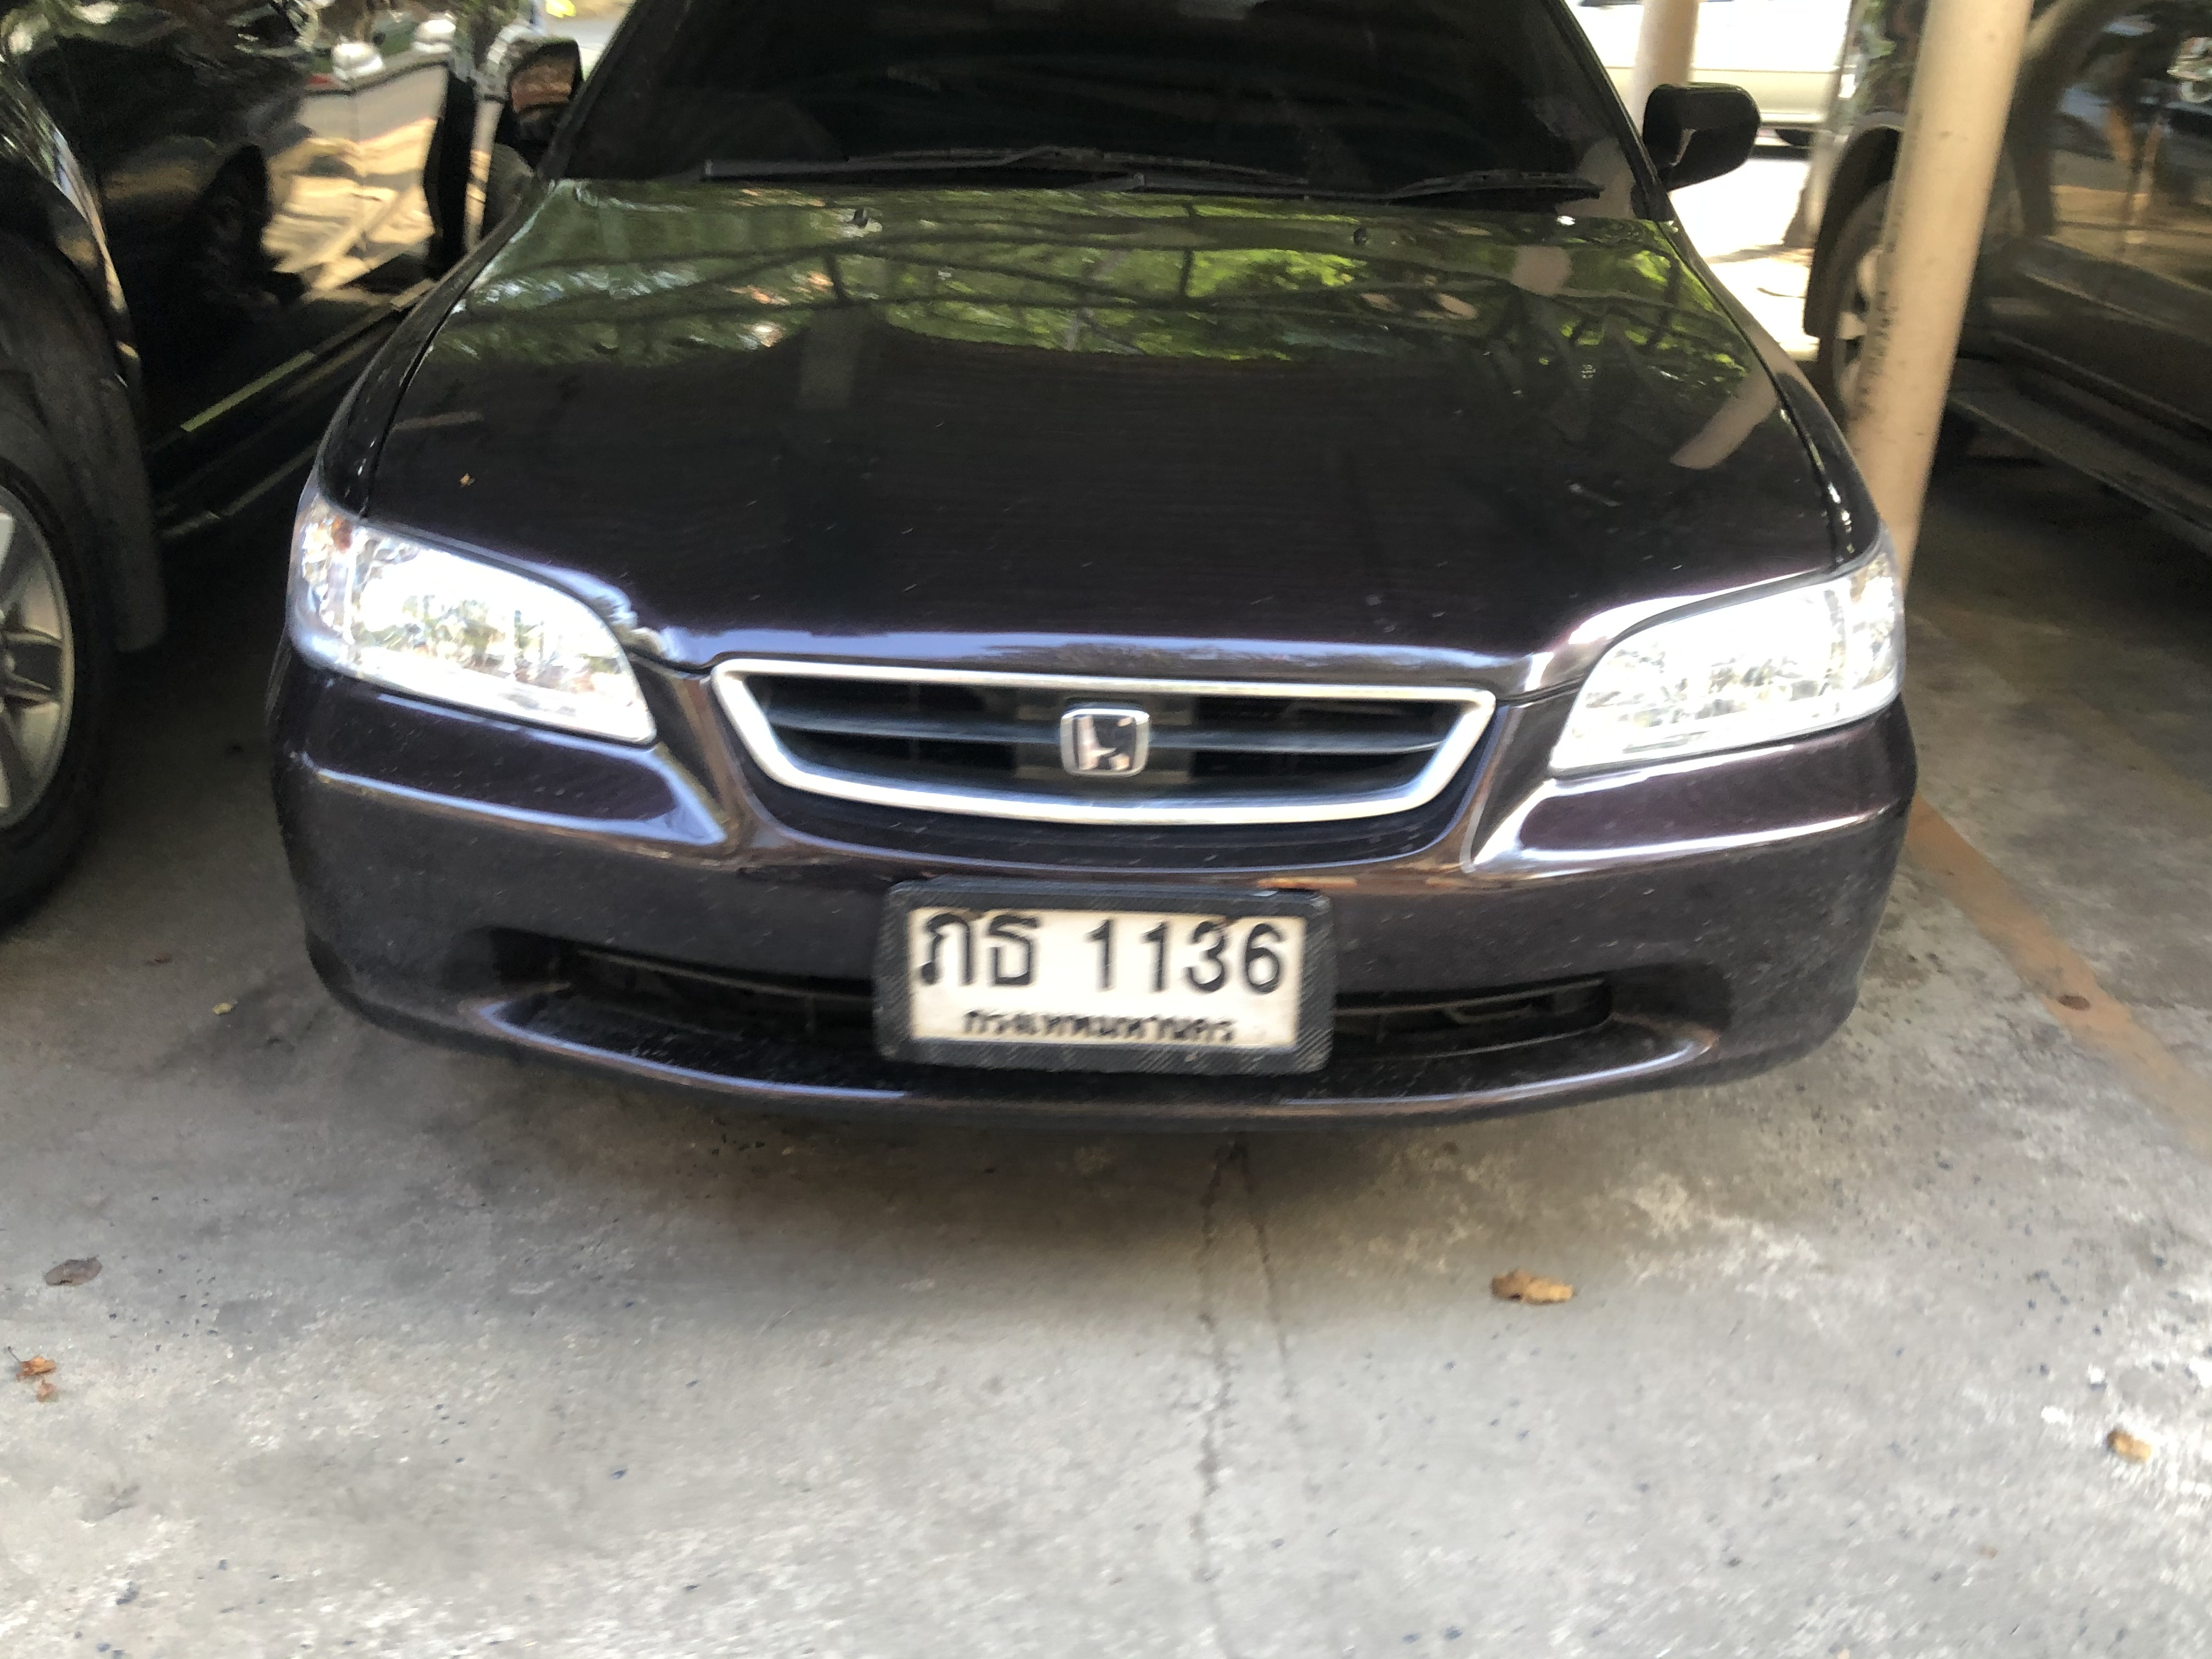in: (911, 903, 1301, 1054)
out: (859, 875, 1339, 1080)
